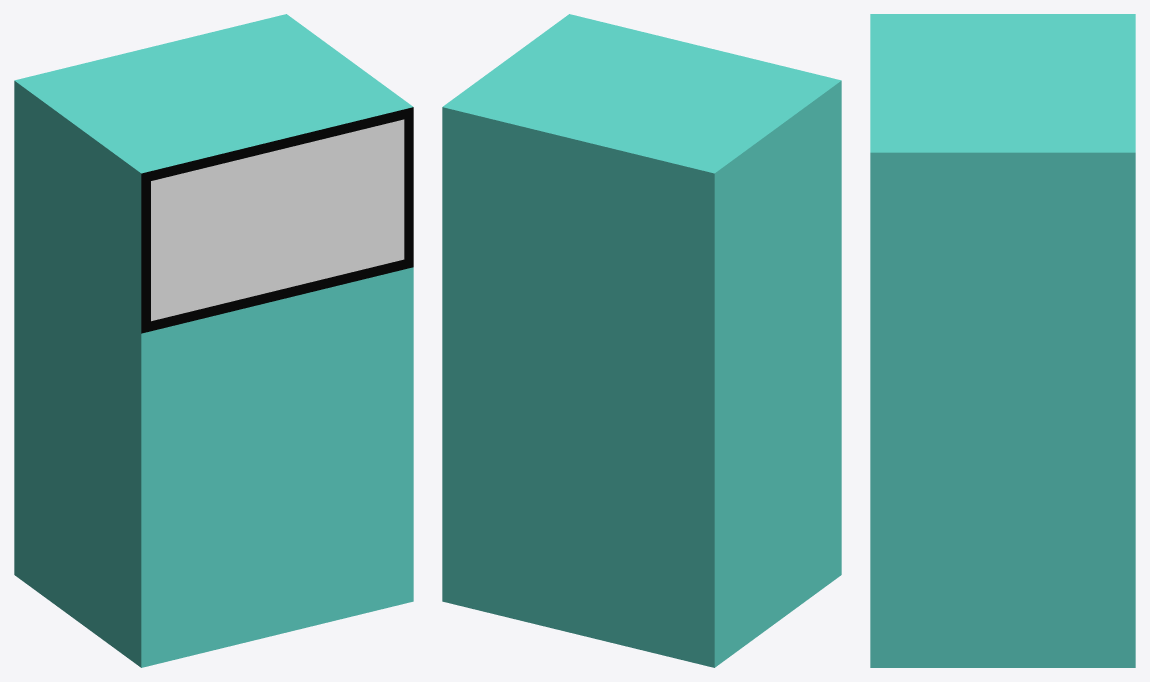
File: Podium.fbx
3 renders of one model, left to right at view 1: azimuth 30°, elevation 25°; view 2: azimuth 150°, elevation 25°; view 3: azimuth 270°, elevation 25°, orthographic. The views are drawn at different scales.
Visible parts, largest first — view 1: Podium, TV Screen, TV Border; view 2: Podium; view 3: Podium.
Part boxes in pixels (<box>): Podium: <box>14,14,413,667</box>; TV Screen: <box>151,119,404,321</box>; TV Border: <box>141,107,413,333</box>; Podium: <box>442,14,841,667</box>; Podium: <box>870,14,1135,667</box>.
Size of the model in its own units: 81.99 by 142 by 66.29.
